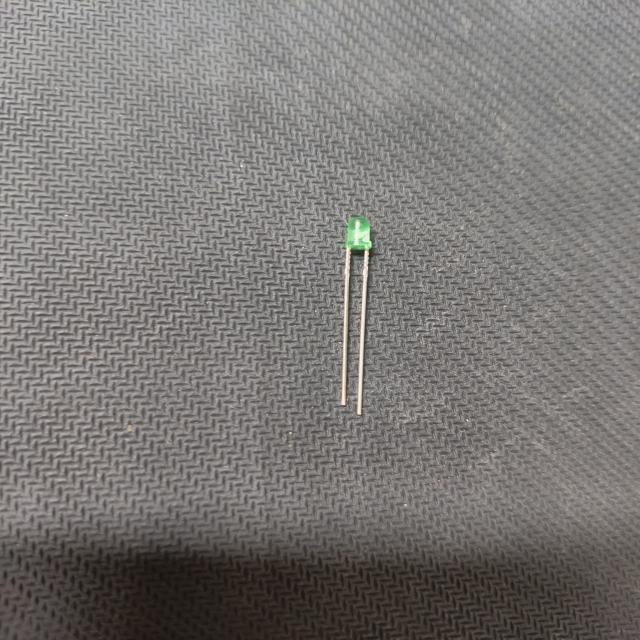led: (319, 205, 388, 428)
